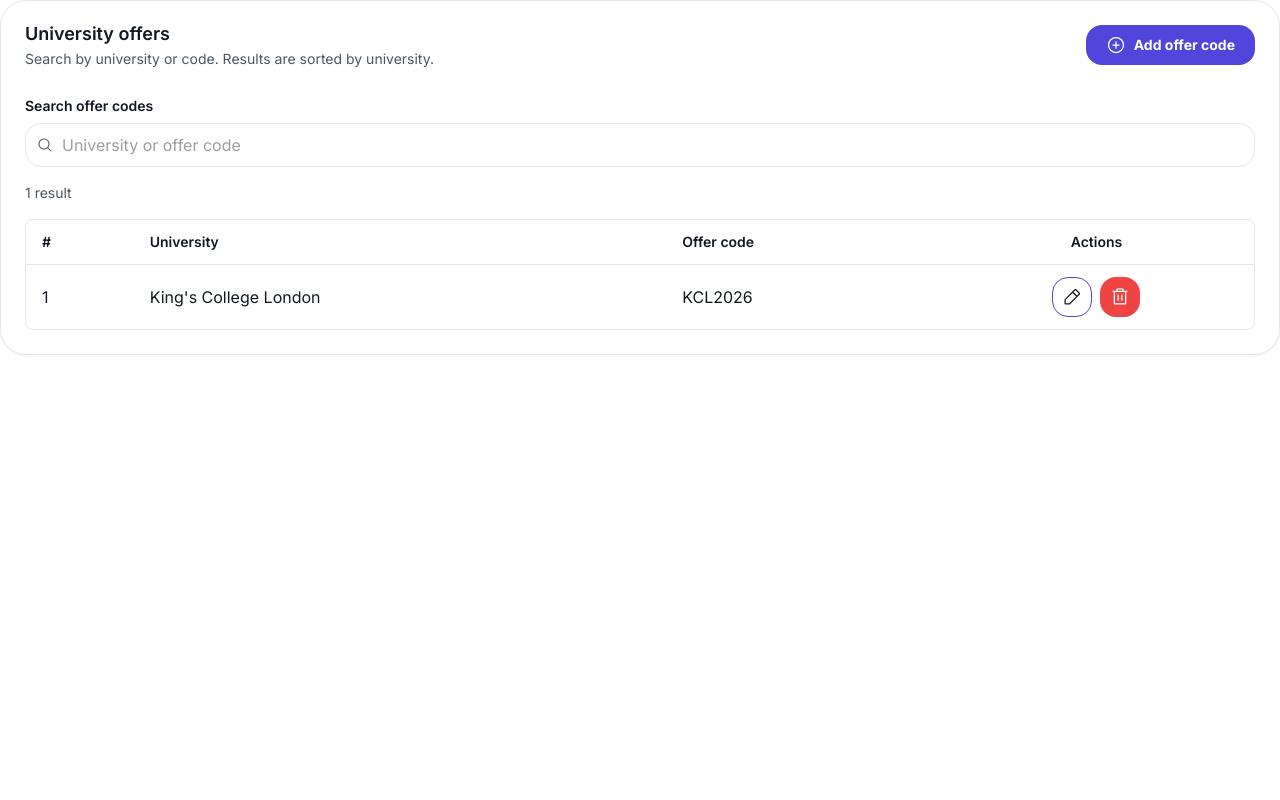
Scenario: OfferCodeManagement › keeps a create dialog and its draft open after the API rejects it
Expected: the text "King's College London" is shown, [134, 265, 666, 329]
Click the button "Add offer code": (1170, 45) [1086, 25, 1255, 65]
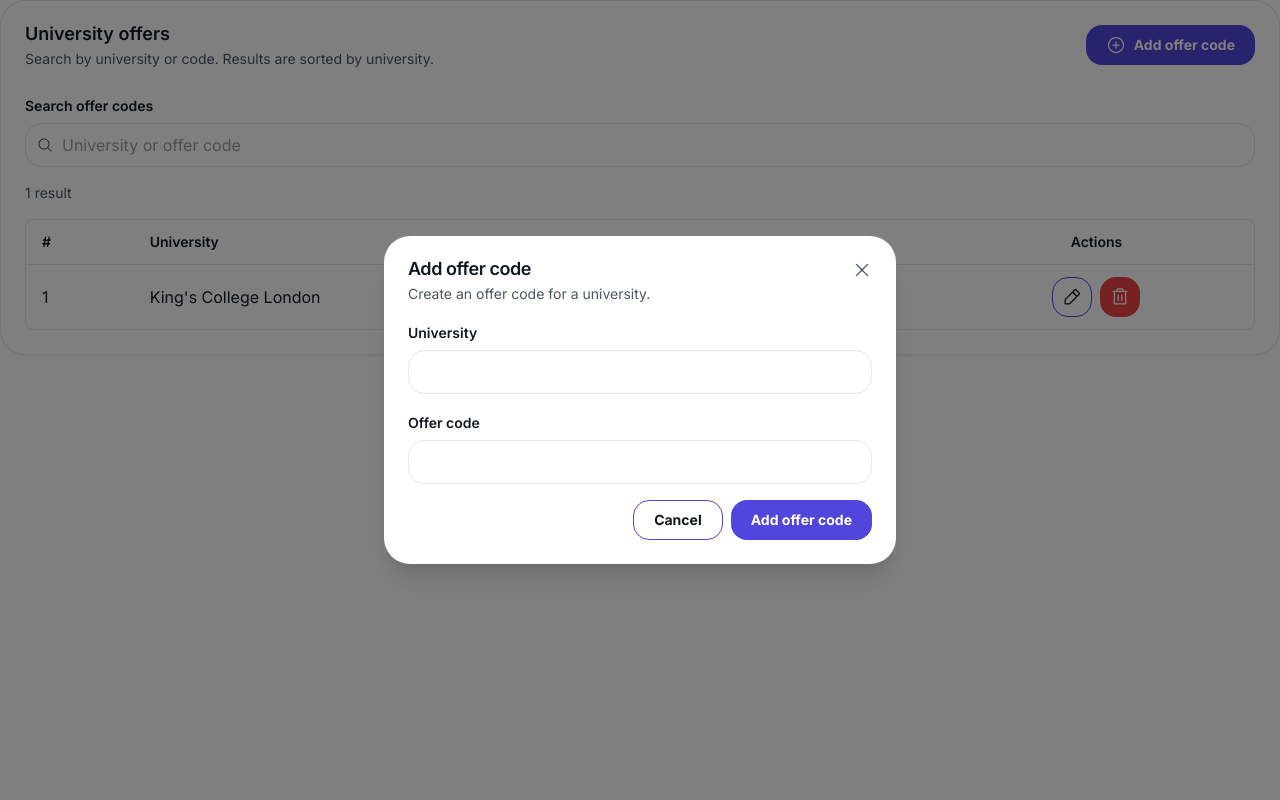
In the field labelled "University": (640, 372) [408, 350, 872, 394], type "University of Leeds"
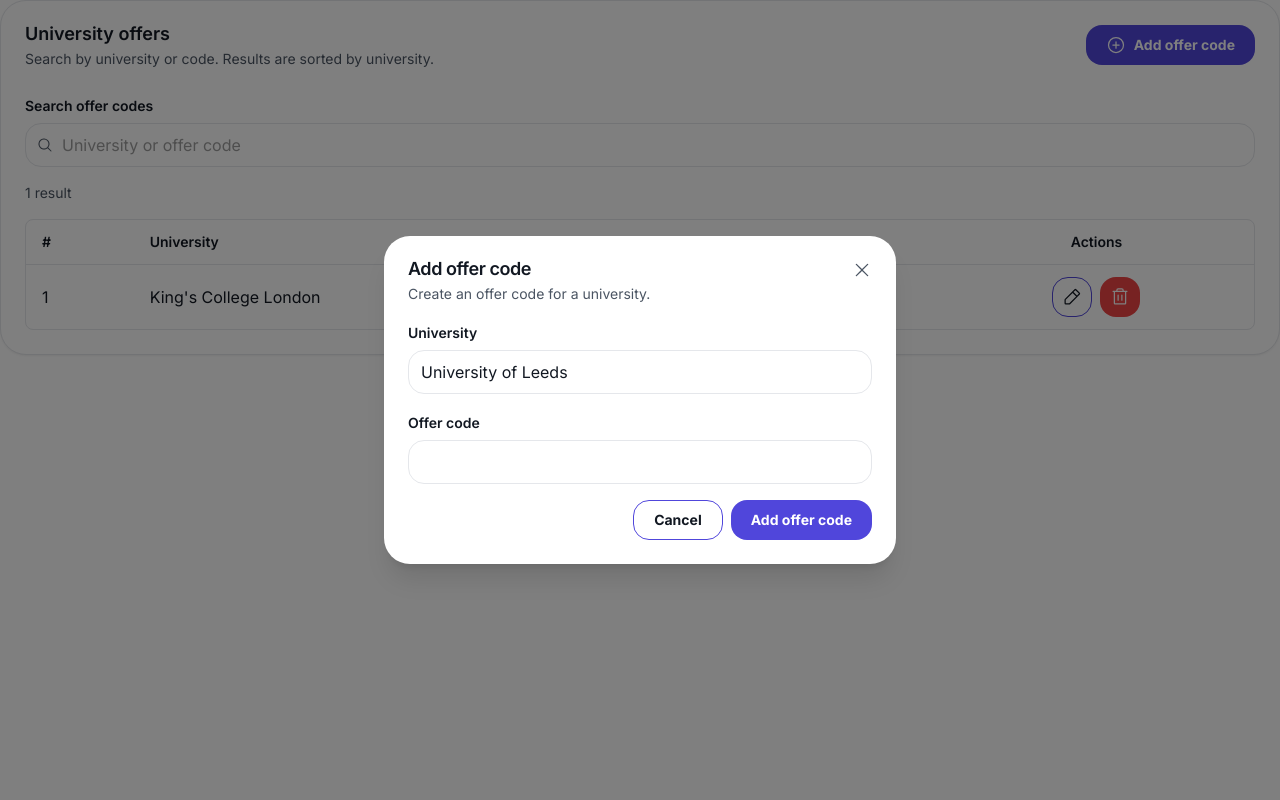
In the field labelled "Offer code": (640, 462) [408, 440, 872, 484], type "LEEDS2026"
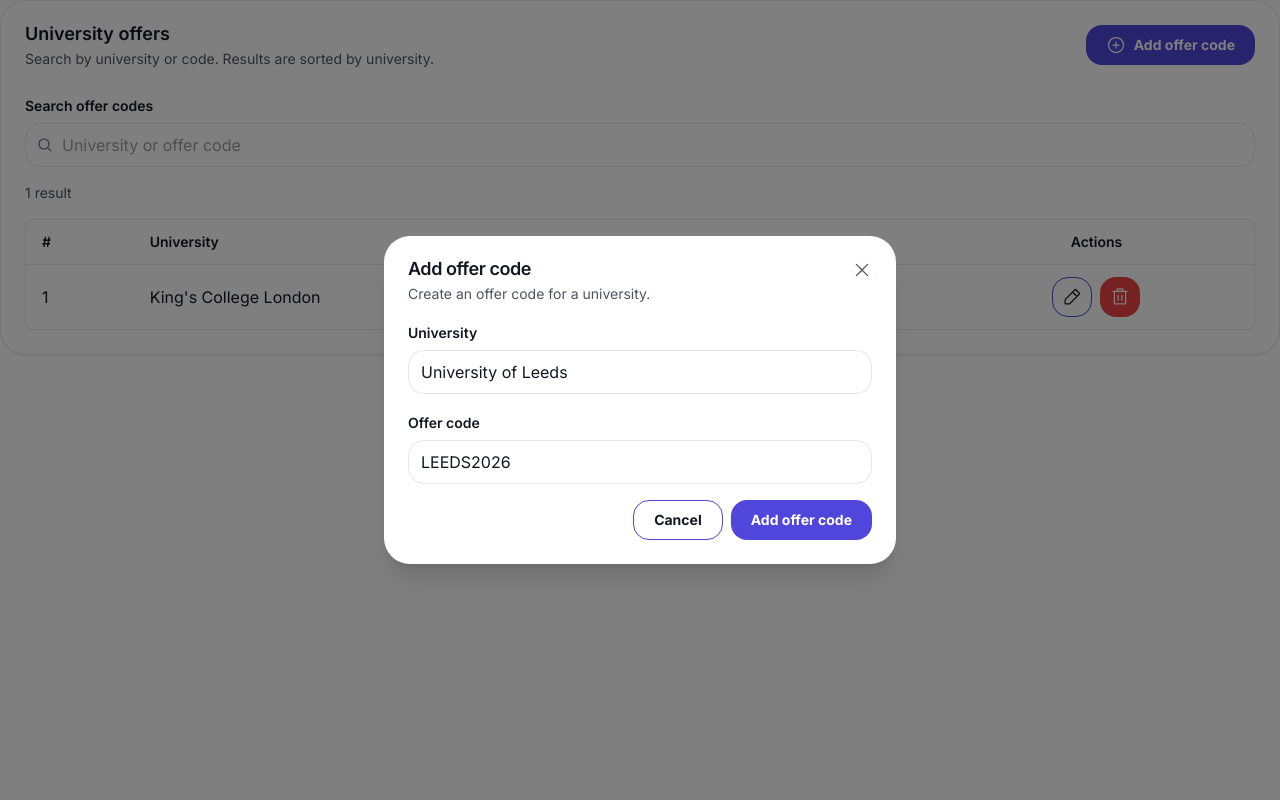
Click the button "Add offer code": (801, 520) [731, 500, 872, 540]
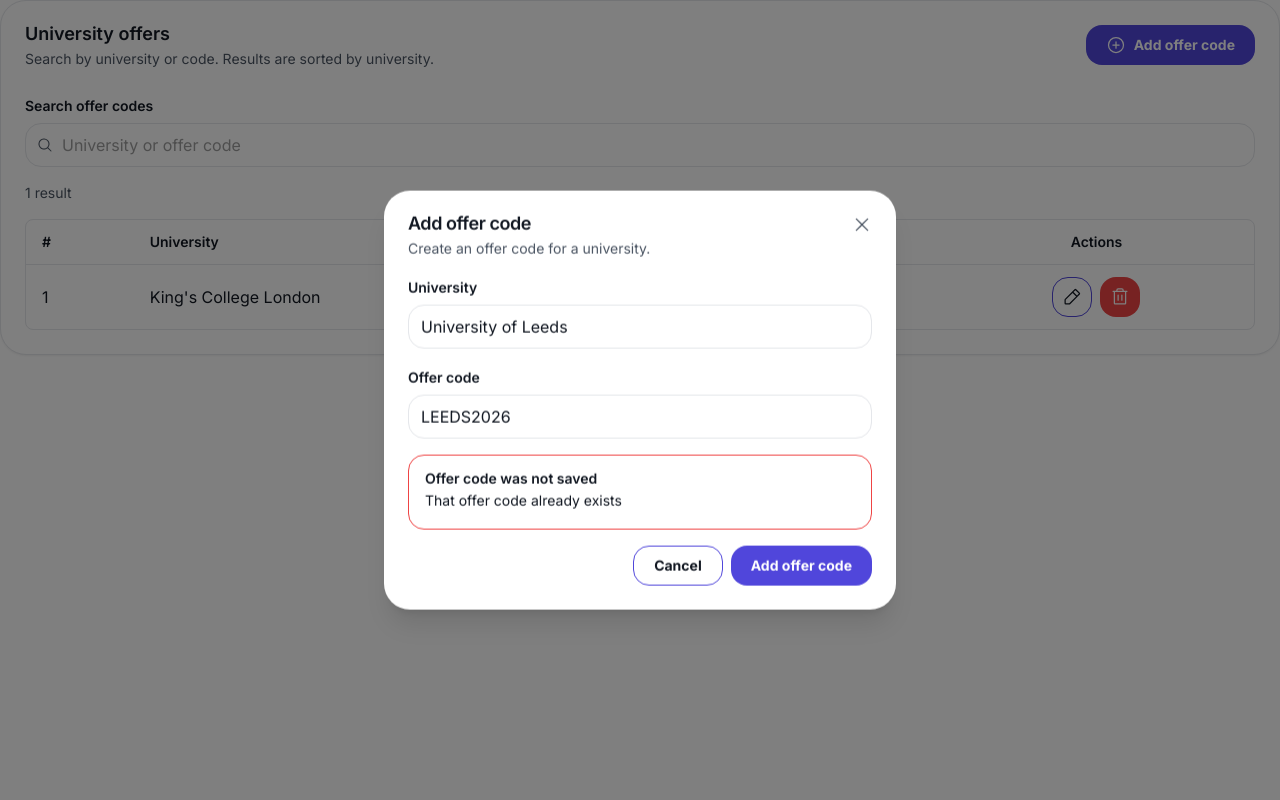
Result: the dialog "Add offer code" is shown at [384, 191, 896, 609]
Result: the text "That offer code already exists" is shown at [425, 492, 622, 509]
